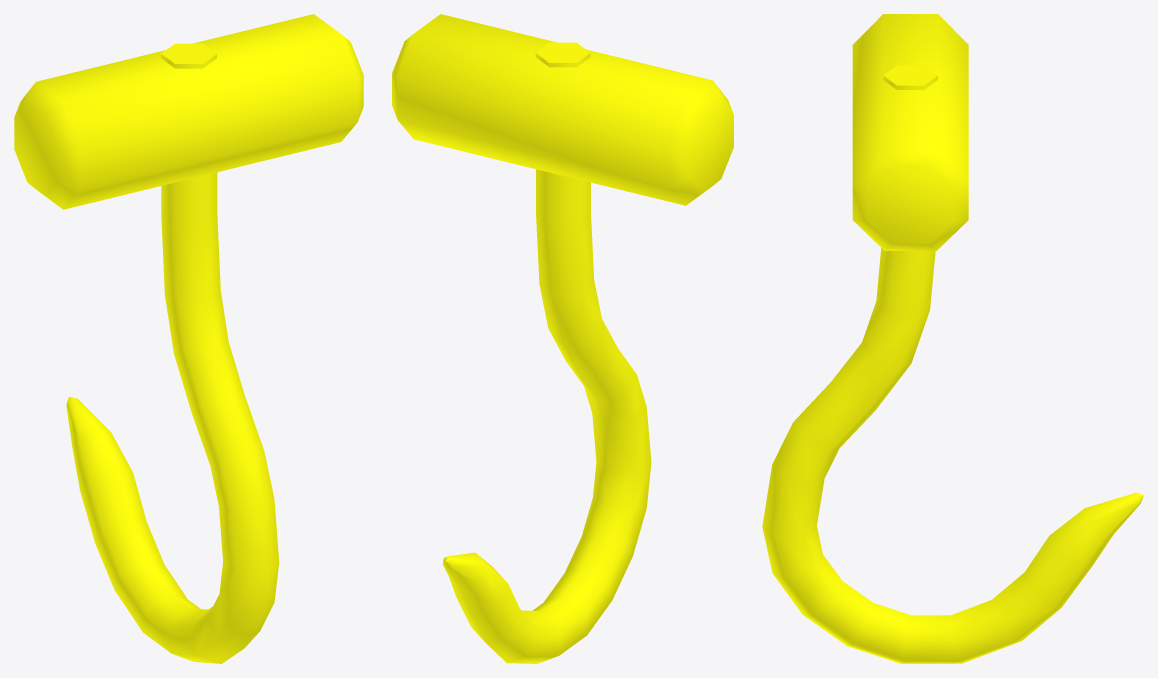
Rendered from melee_meathook.glb.
3 views of the same model, side by side, from view 1: azimuth 30°, elevation 25°; view 2: azimuth 150°, elevation 25°; view 3: azimuth 270°, elevation 25° (orthographic). The views are drawn at different scales.
Visible parts, largest first — view 1: MeatHook; view 2: MeatHook; view 3: MeatHook.
Part boxes in pixels (left/top/right/bottom): MeatHook: left=14, top=14, right=363, bottom=663; MeatHook: left=392, top=14, right=733, bottom=663; MeatHook: left=762, top=14, right=1143, bottom=663.
Size of the model in its own units: 0.1334 by 0.2524 by 0.1482.
Materials: 1 (1 with a texture image).
